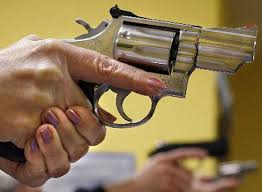gun: (51, 4, 258, 128)
